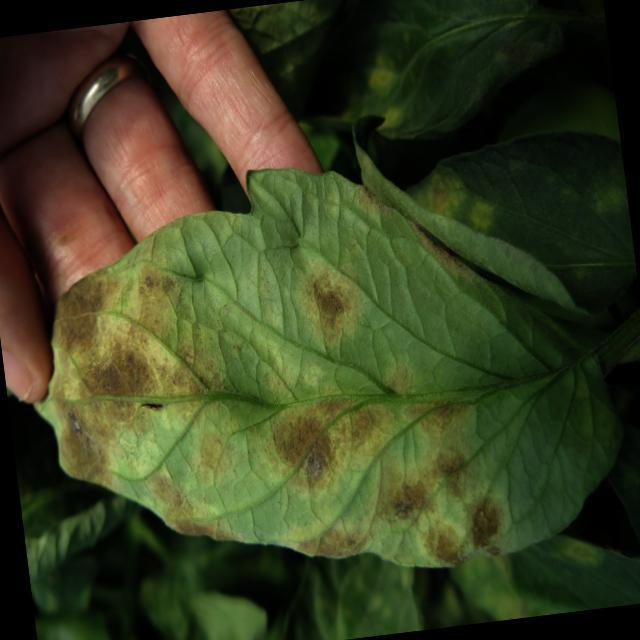Tomato mold leaf: (0, 130, 640, 621)
